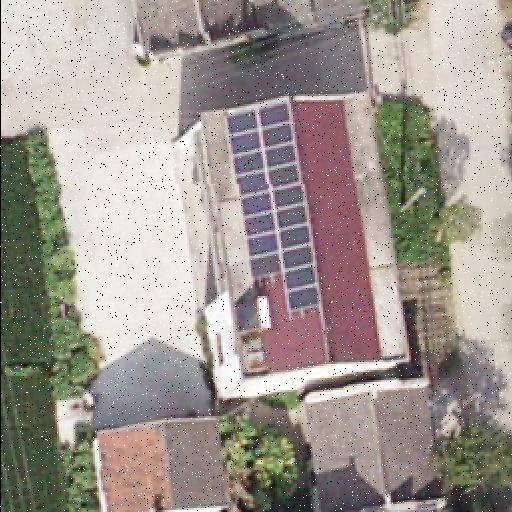solar-panel: (224, 97, 320, 311)
